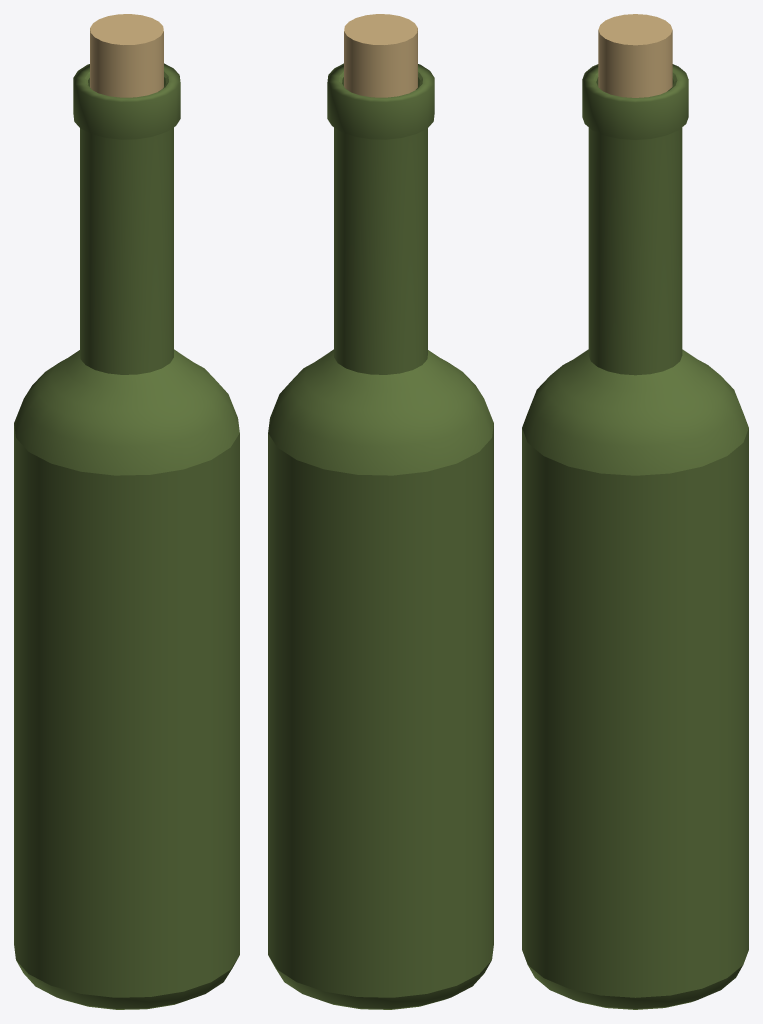
Rendered from WineBottle0.fbx.
3 views of the same model, side by side, from view 1: azimuth 30°, elevation 25°; view 2: azimuth 150°, elevation 25°; view 3: azimuth 270°, elevation 25° (orthographic).
Parts seen in each view (by area): view 1: Bottle, Cork; view 2: Bottle, Cork; view 3: Bottle, Cork.
Boxes of the visible parts, x1,y1,x2,y2 form: Bottle: (14,63,239,1009); Cork: (90,14,163,97); Bottle: (268,63,493,1009); Cork: (344,14,417,97); Bottle: (522,64,748,1009); Cork: (598,14,672,97).
Size of the model in its own units: 0.6122 by 2.8 by 0.6122.
